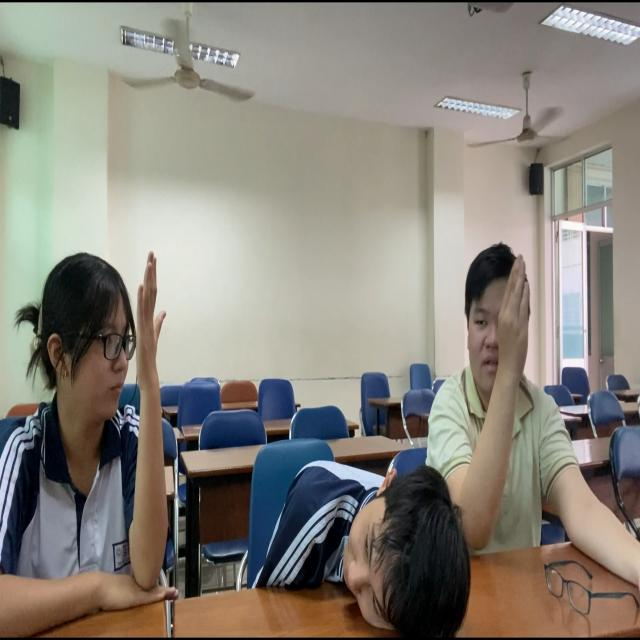raise_hand: (1, 248, 187, 640), (434, 242, 598, 570)
sleep: (234, 435, 473, 640)
